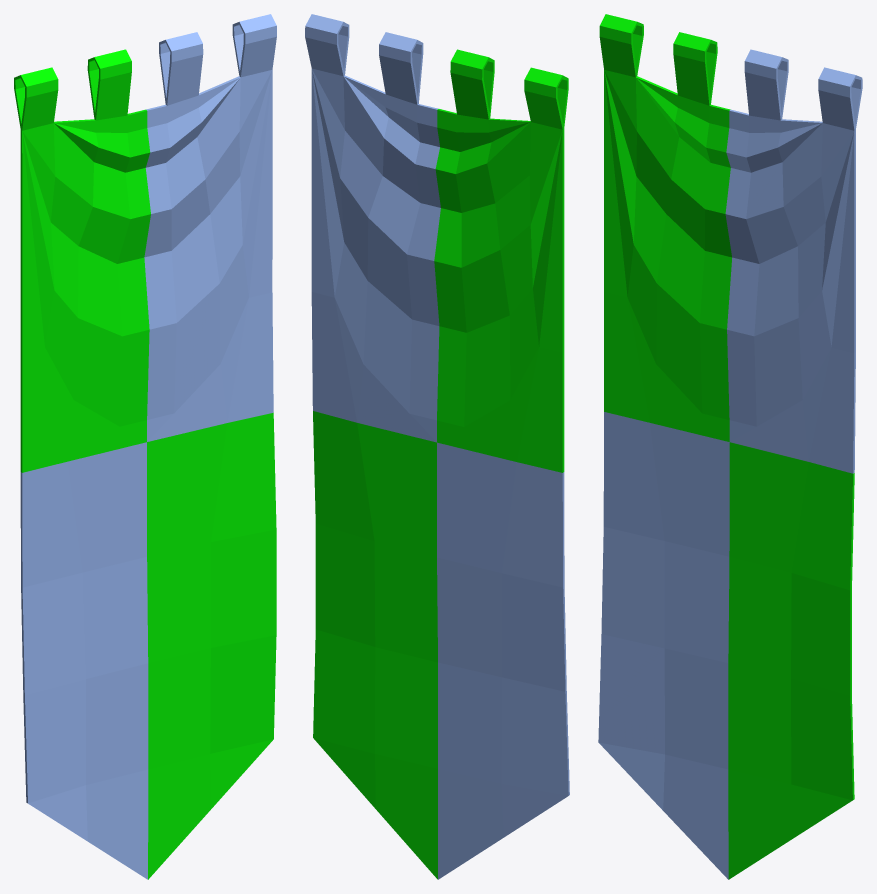
The model's file is SM_Flag_Banner_Medium_E_Fantasy.fbx.
The picture shows the model from 3 angles, left to right: view 1: azimuth 30°, elevation 25°; view 2: azimuth 150°, elevation 25°; view 3: azimuth 330°, elevation 25°; orthographic projection.
Visible parts, largest first — view 1: flag-banner-medium-e-fantasy; view 2: flag-banner-medium-e-fantasy; view 3: flag-banner-medium-e-fantasy.
Part boxes in pixels (x1,y1,x2,y2): flag-banner-medium-e-fantasy: [14, 14, 276, 879]; flag-banner-medium-e-fantasy: [305, 14, 569, 879]; flag-banner-medium-e-fantasy: [598, 14, 862, 879].
Bounding box in the file's own units: 0.9575 × 3.04 × 0.0921.
